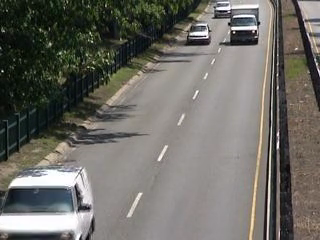car: (187, 22, 212, 46), (212, 1, 232, 18)
truck: (1, 162, 101, 240), (228, 4, 262, 45)
